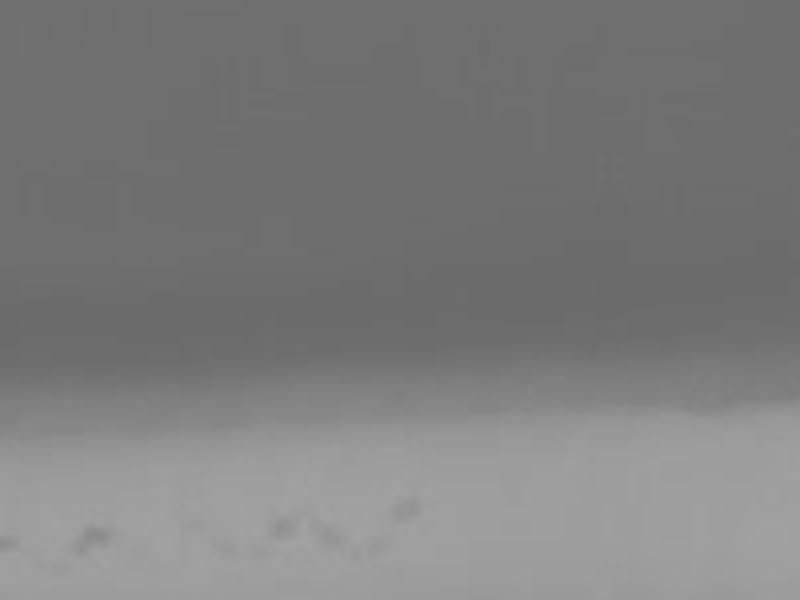defect: (307, 516, 349, 550), (389, 492, 426, 522), (75, 524, 111, 552), (264, 513, 300, 538), (210, 536, 236, 561), (363, 530, 389, 555), (2, 535, 21, 559)
